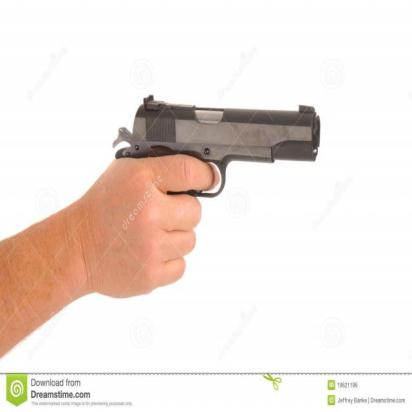Gun: (109, 88, 325, 300)
